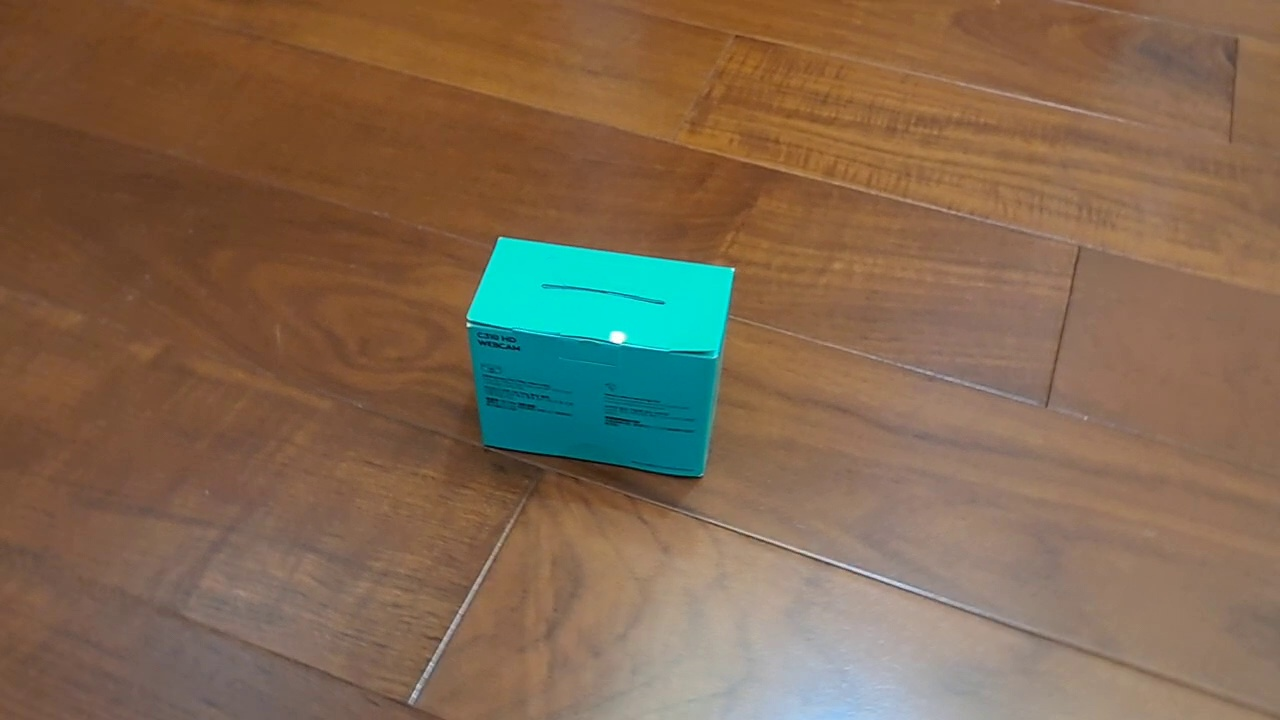webcam: (464, 233, 737, 481)
